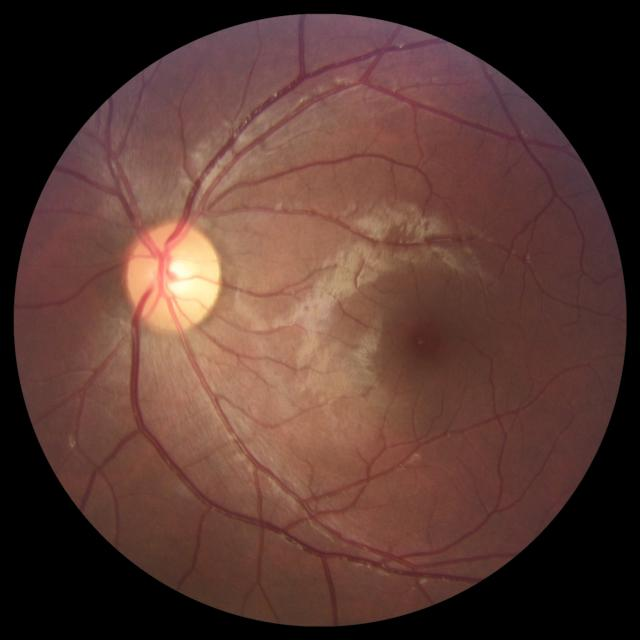OC: (153, 252, 194, 298)
OD: (124, 221, 218, 331)
